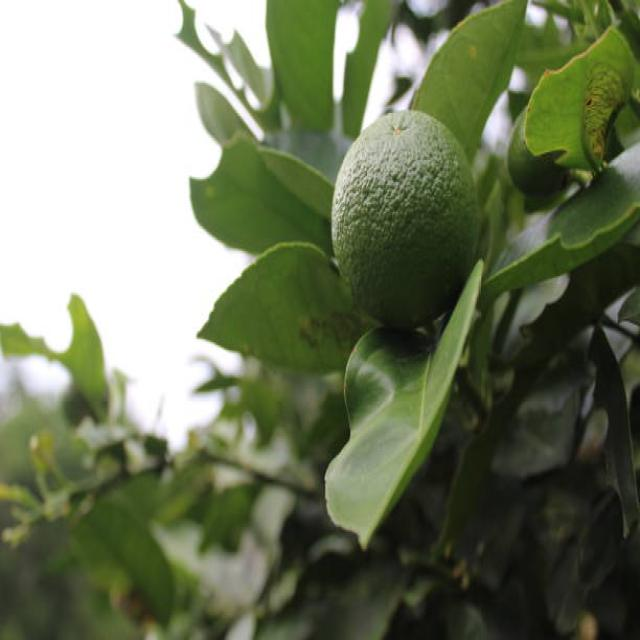Unripe: (332, 110, 479, 324)
